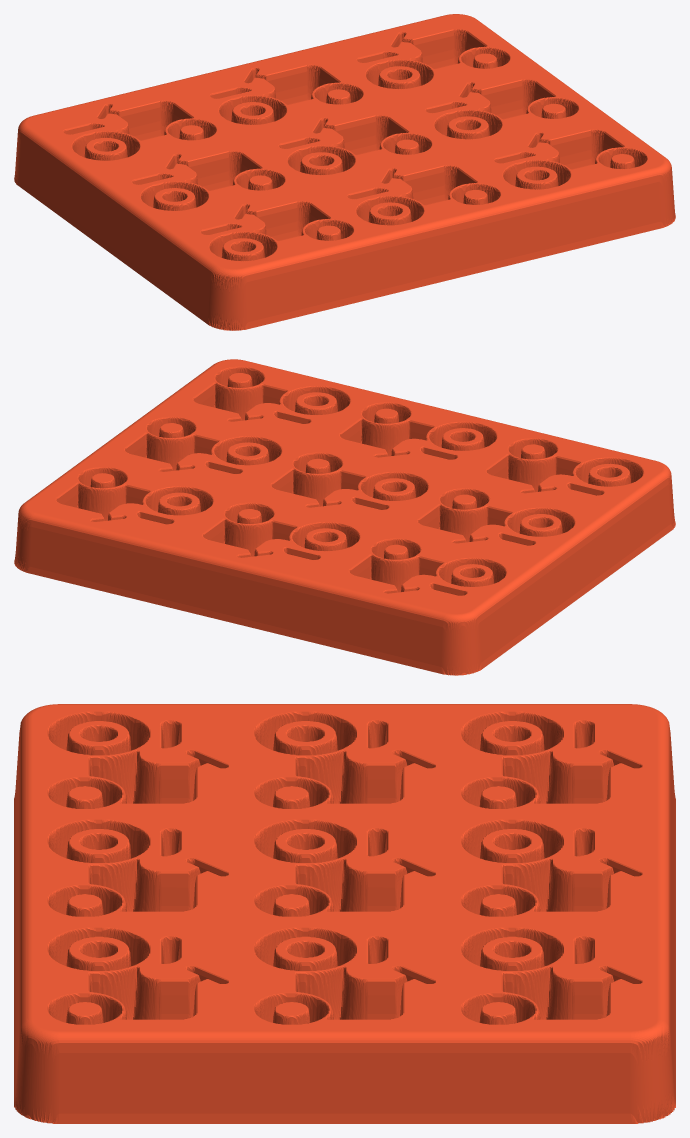
Rendered from mold.glb.
The picture shows the model from 3 angles, top to bottom: view 1: azimuth 30°, elevation 25°; view 2: azimuth 150°, elevation 25°; view 3: azimuth 270°, elevation 25°; orthographic projection. The views are drawn at different scales.
Parts seen in each view (by area): view 1: geometry_0; view 2: geometry_0; view 3: geometry_0.
Part boxes in pixels (x1,y1,x2,y2): geometry_0: (14, 14, 675, 330); geometry_0: (14, 359, 675, 675); geometry_0: (14, 704, 675, 1123).
Bounding box in the file's own units: 0.1595 × 0.0185 × 0.1307.
